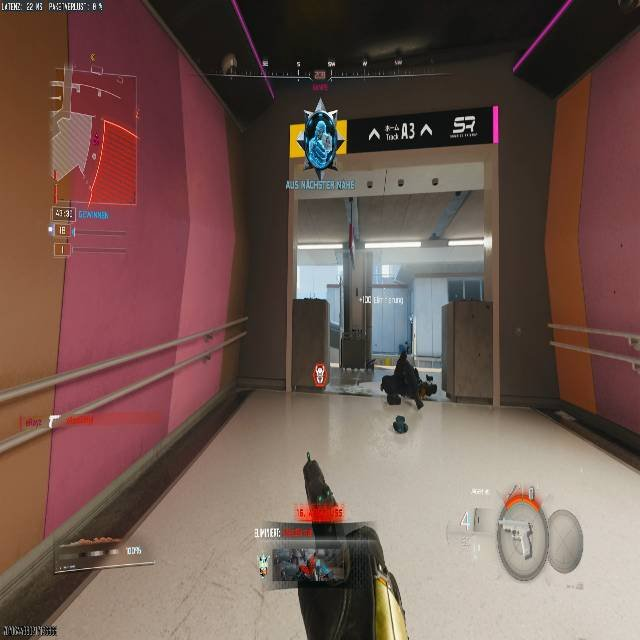player: (380, 351, 430, 433)
